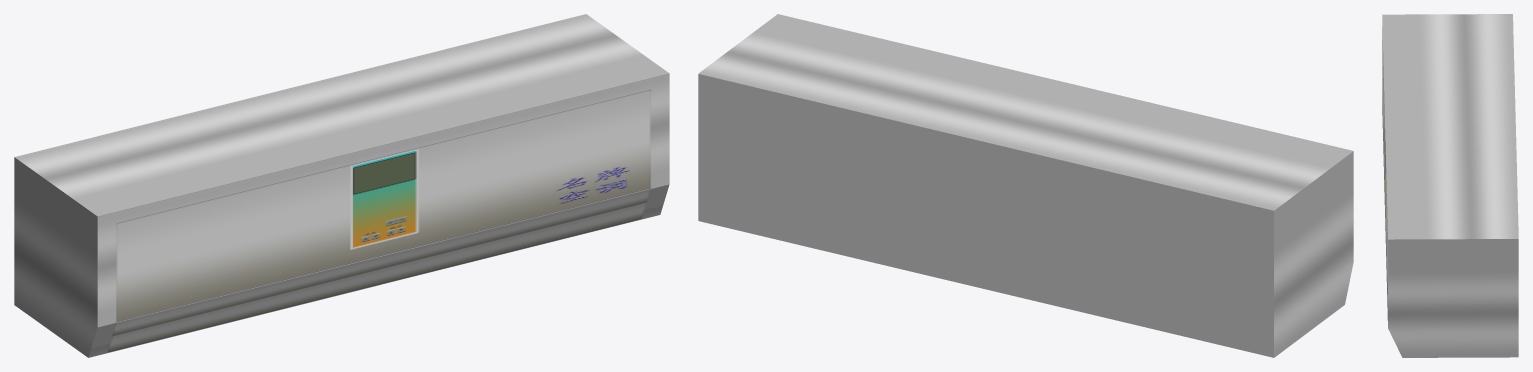
3 renders of one model, left to right at view 1: azimuth 30°, elevation 25°; view 2: azimuth 150°, elevation 25°; view 3: azimuth 270°, elevation 25°, orthographic. The views are drawn at different scales.
Visible parts, largest first — view 1: Cube; view 2: Cube; view 3: Cube.
Boxes of the visible parts, bbox=[...] form: Cube: bbox=[14, 14, 669, 357]; Cube: bbox=[698, 14, 1353, 357]; Cube: bbox=[1382, 14, 1518, 357].
Bounding box in the file's own units: 8.16 × 2 × 2.09.
Materials: 1 (1 with a texture image).
